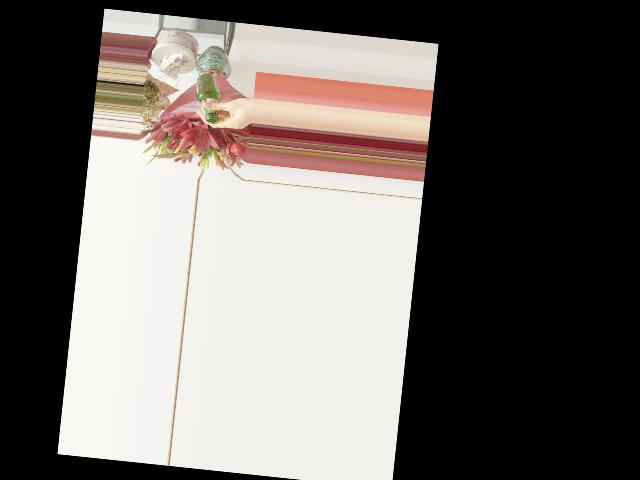beer: (192, 73, 223, 124)
